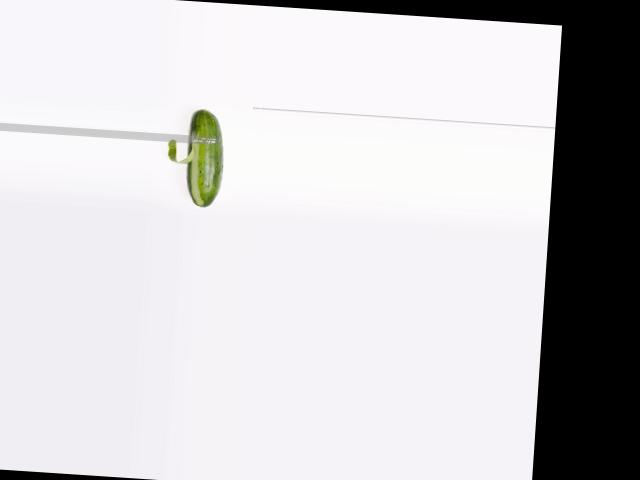cucumber: (182, 108, 226, 208)
